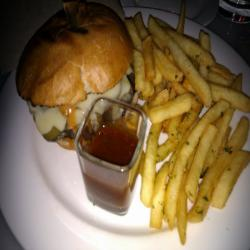burger: (19, 7, 140, 155)
fries: (140, 28, 238, 207)
ketchup: (75, 108, 146, 202)
